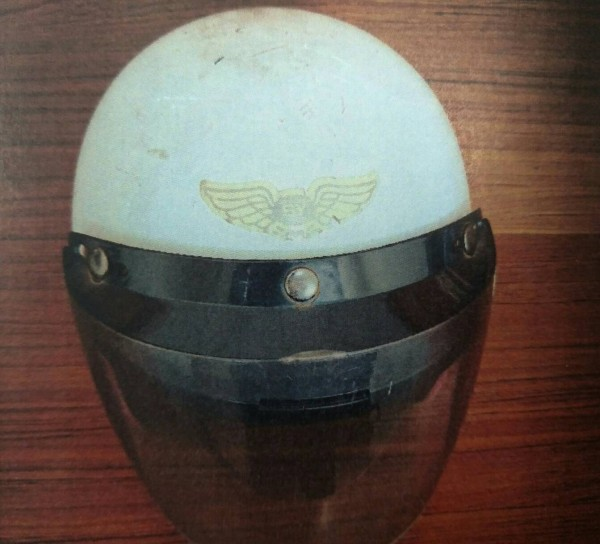helmet: (78, 26, 499, 312)
